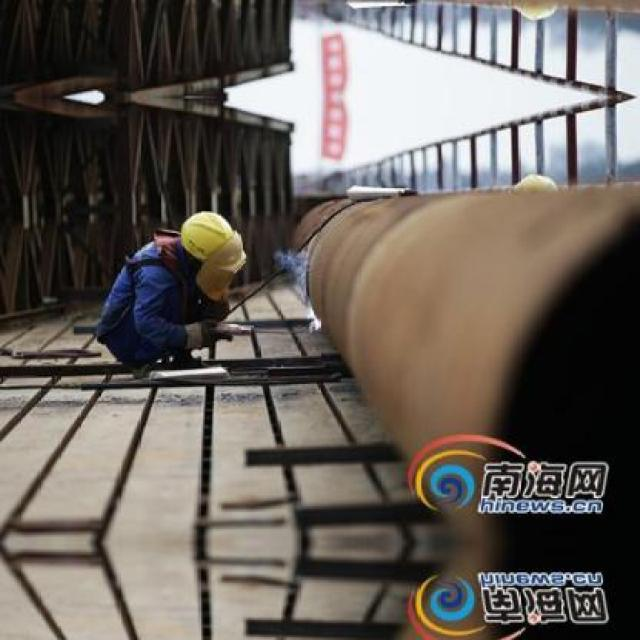helmet: (179, 208, 246, 281)
